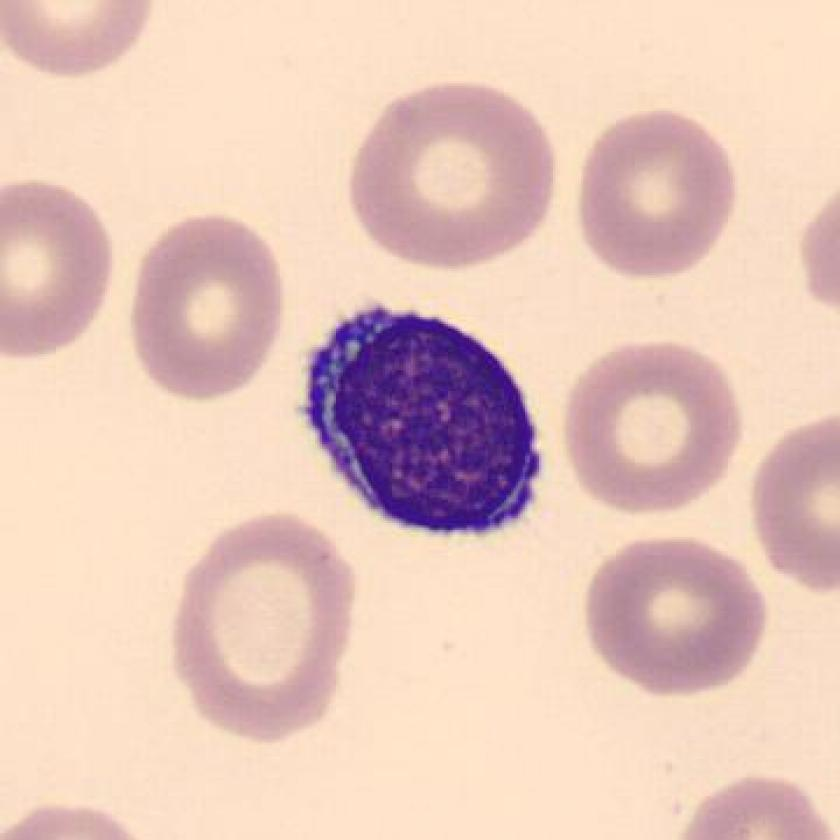lymphocyte: (304, 300, 547, 543)
